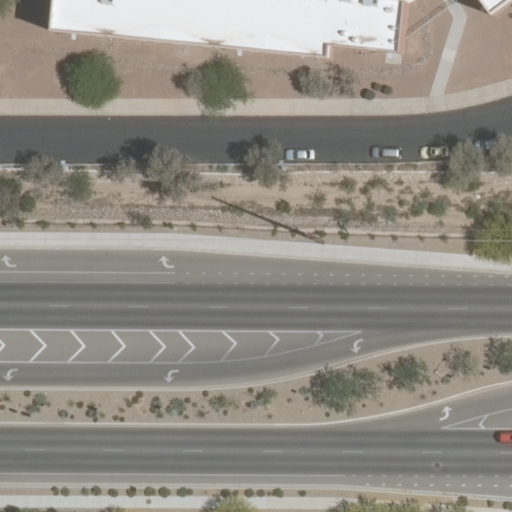DT: (290, 223, 329, 247)
